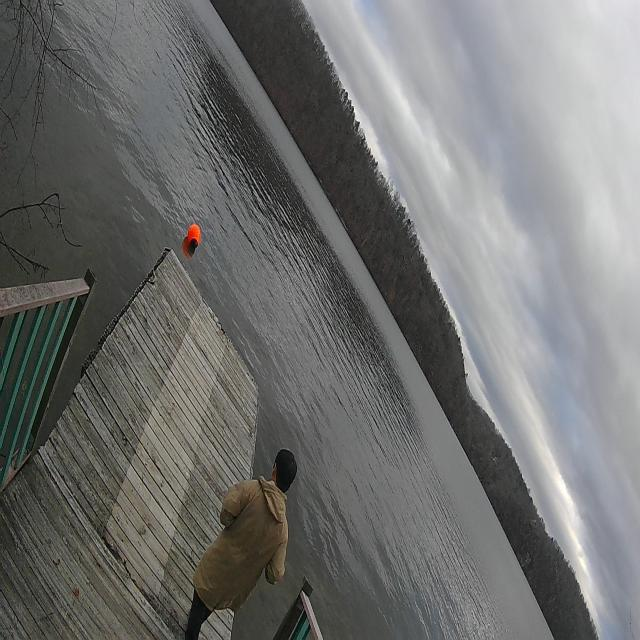Buoy: (186, 218, 202, 256)
